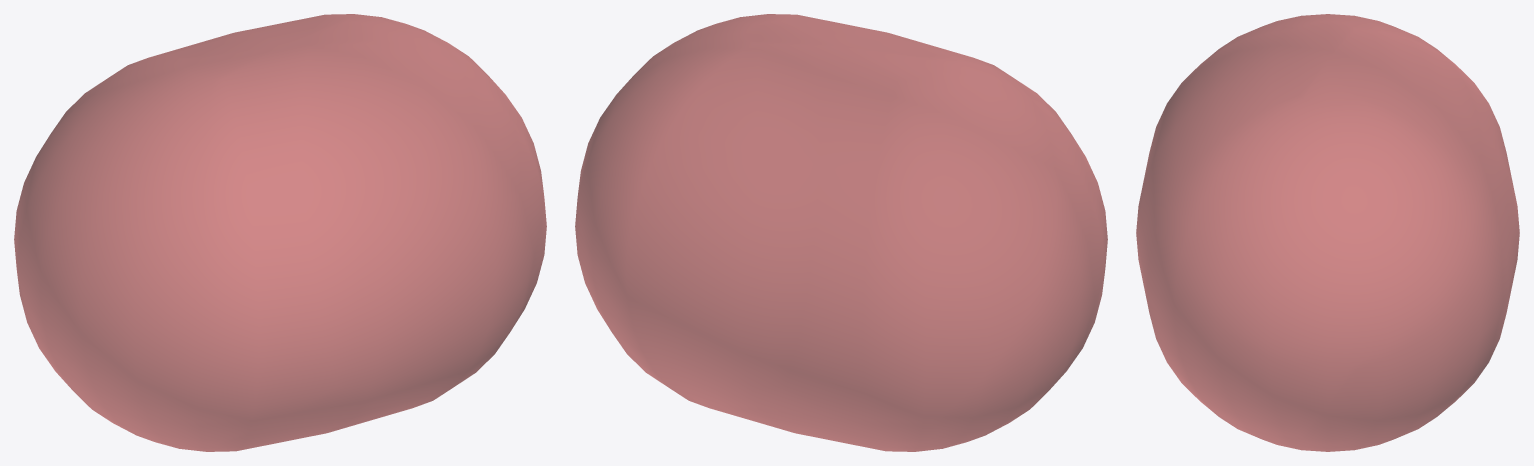
File: JellySplatBall.fbx
3 renders of one model, left to right at view 1: azimuth 30°, elevation 25°; view 2: azimuth 150°, elevation 25°; view 3: azimuth 270°, elevation 25°, orthographic. The views are drawn at different scales.
Visible parts, largest first — view 1: pSphere1; view 2: pSphere1; view 3: pSphere1.
Boxes of the visible parts, box(x1,y1,x2,y2) form: pSphere1: box(14, 14, 546, 451); pSphere1: box(575, 14, 1107, 451); pSphere1: box(1136, 14, 1519, 451).
Bounding box in the file's own units: 29.56 × 21.91 × 21.91.
